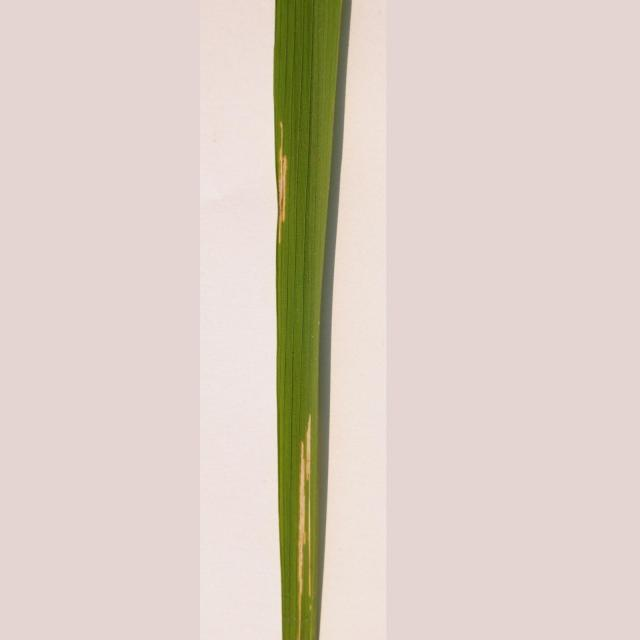leaf blight: (280, 417, 317, 632), (270, 117, 325, 243)
